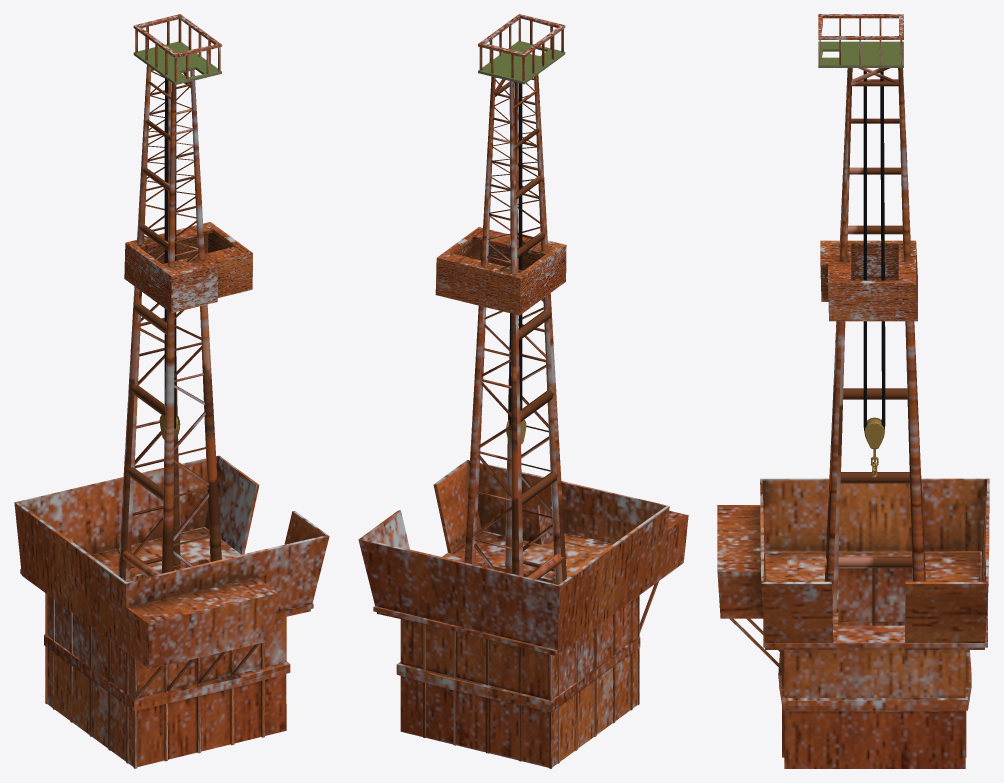
Rendered from 03_tower_UV.fbx.
The picture shows the model from 3 angles, left to right: view 1: azimuth 30°, elevation 25°; view 2: azimuth 150°, elevation 25°; view 3: azimuth 270°, elevation 25°; orthographic projection. The views are drawn at different scales.
Visible parts, largest first — view 1: Cube.011; view 2: Cube.011; view 3: Cube.011.
Part boxes in pixels (x1,y1,x2,y2): Cube.011: (14,14,329,768); Cube.011: (358,14,688,768); Cube.011: (717,14,989,768).
Bounding box in the file's own units: 268 × 861 × 301.
